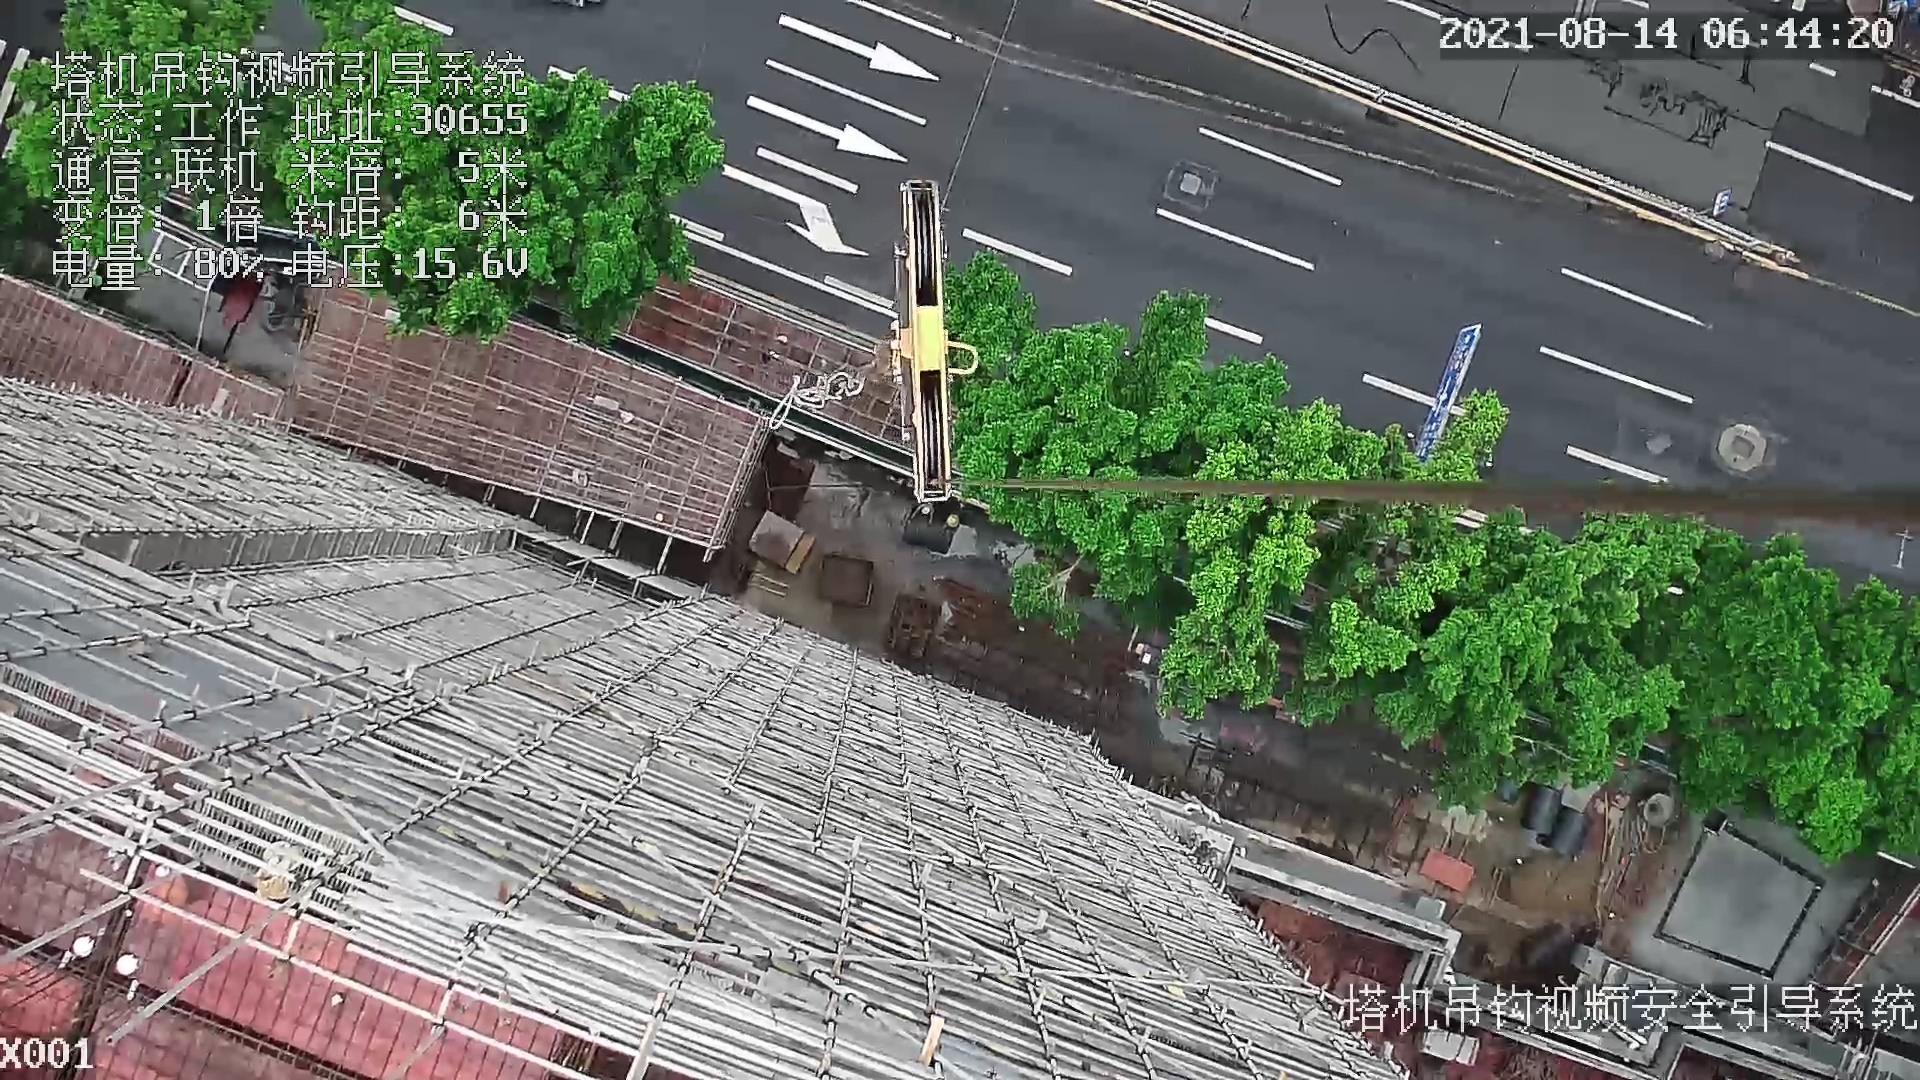hook: (885, 174, 978, 509)
